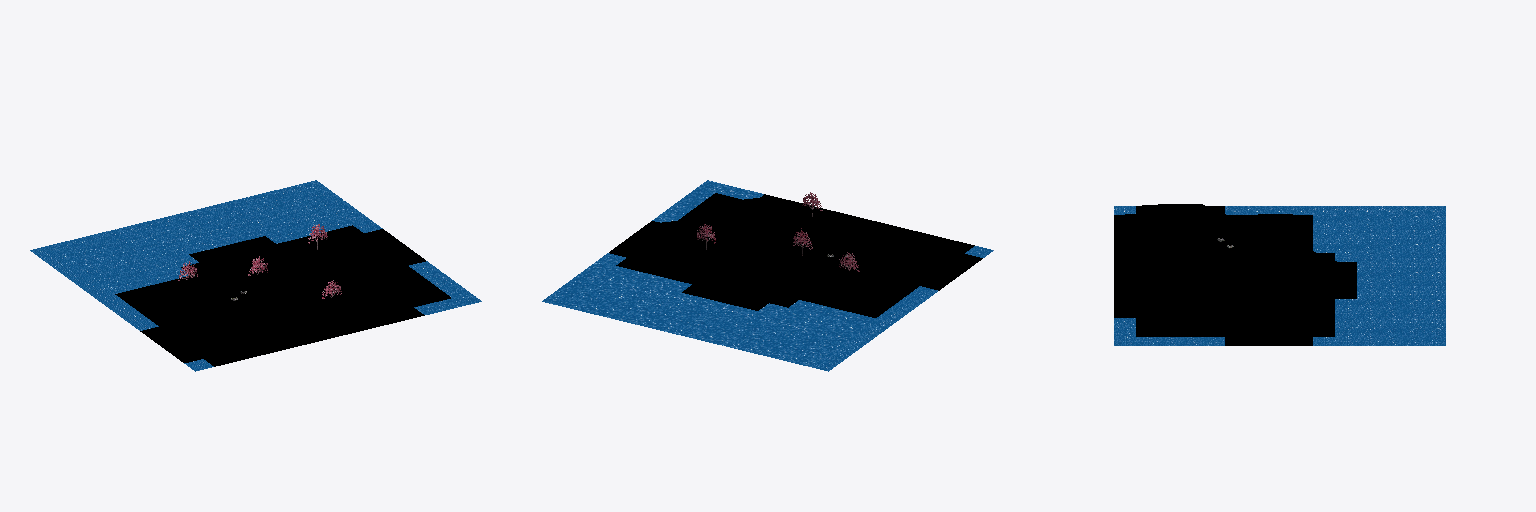
The picture shows the model from 3 angles: view 1: azimuth 30°, elevation 25°; view 2: azimuth 150°, elevation 25°; view 3: azimuth 270°, elevation 25°; orthographic projection.
Visible parts, largest first — view 1: Menu:pPlane1 Menu:polySurface1; view 2: Menu:pPlane1 Menu:polySurface1; view 3: Menu:pPlane1 Menu:polySurface1.
Boxes of the visible parts, <box> form: Menu:pPlane1 Menu:polySurface1: <box>30,180,481,371</box>; Menu:pPlane1 Menu:polySurface1: <box>542,180,993,371</box>; Menu:pPlane1 Menu:polySurface1: <box>1114,204,1445,345</box>.
Bounding box in the file's own units: 40 × 5.3 × 40.
7 materials, 3 textured.